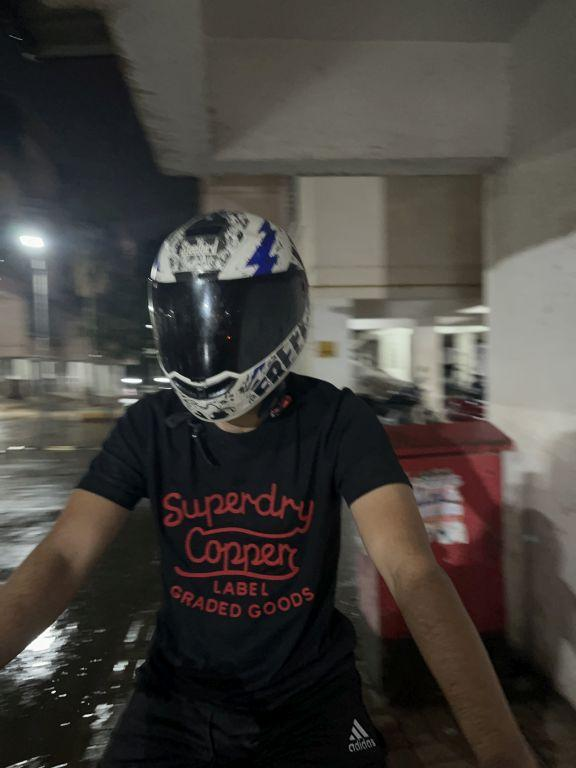helmet: (134, 195, 320, 437)
